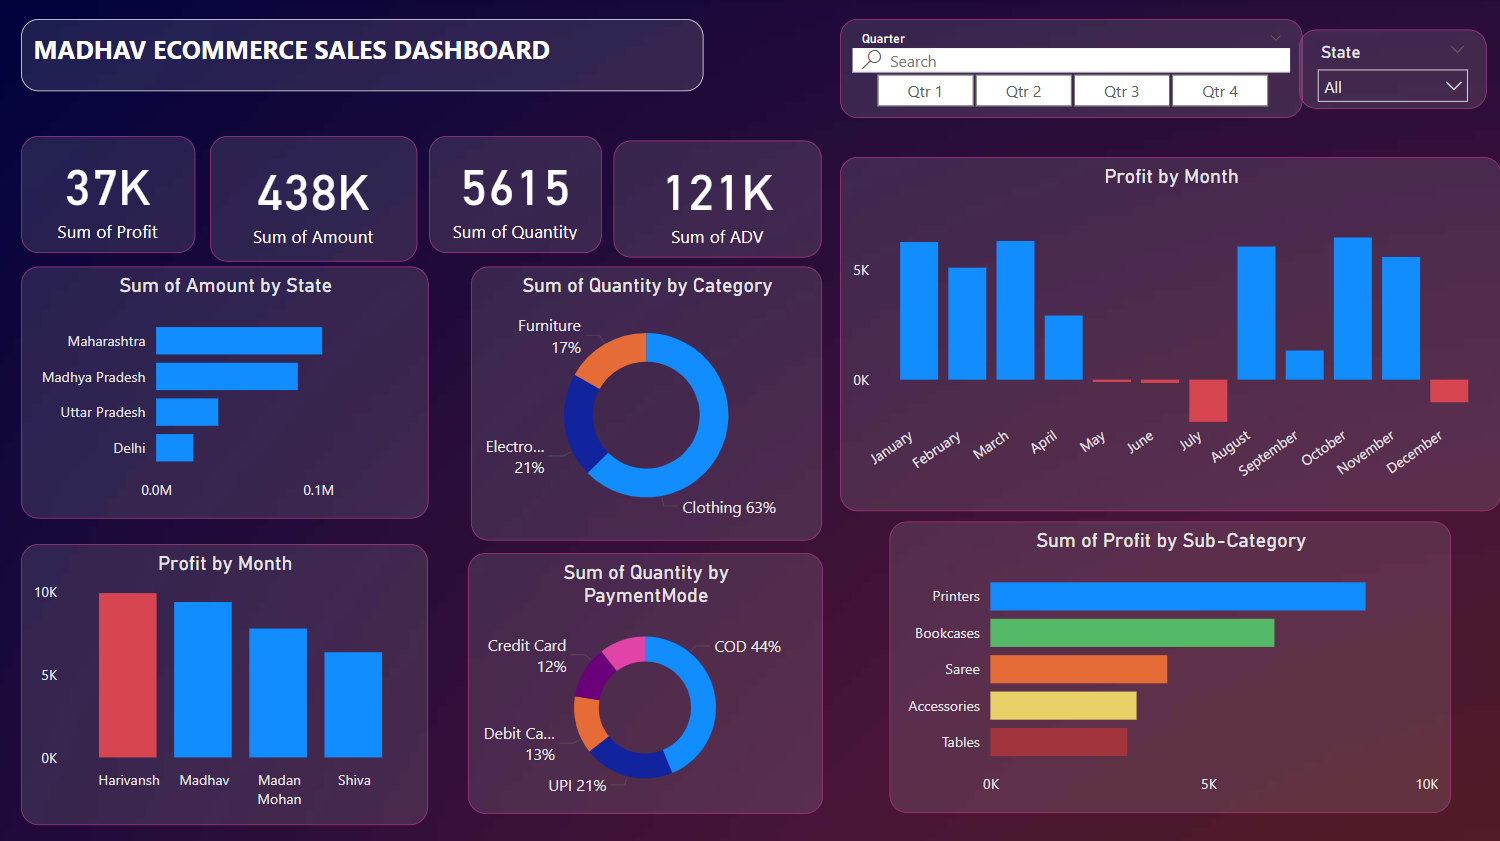

This screenshot's page, from the dashboard's own definition file:
{"tool":"powerbi","page":{"name":"Page 1","canvas":[1280,720],"ordinal":0},"visuals":[{"type":"textbox","box":[22.9,18.3,579.4,61.1],"z":0},{"type":"columnChart","title":"Profit by Month","fields":{"Y":["Details.Profit"],"Category":["Orders.Order Date.Variation.Date Hierarchy.Month"]},"box":[718.1,135,561.5,300.5],"z":1000},{"type":"barChart","fields":{"Category":["Details.Sub-Category"],"Y":["Details.Profit"]},"box":[759.7,444.8,476.9,247.6],"z":2000},{"type":"donutChart","fields":{"Category":["Details.Category"],"Y":["Details.Quantity"]},"box":[405.1,227.8,298.1,232.4],"z":3000},{"type":"donutChart","fields":{"Category":["Details.PaymentMode","Details.Category"],"Y":["Details.Quantity"]},"box":[402,470.8,301.1,221.7],"z":4000},{"type":"card","fields":{"Values":["Details.Amount"]},"box":[183.3,117.1,175.7,107],"z":5000},{"type":"card","fields":{"Values":["Details.Quantity"]},"box":[369.2,117.1,146.4,99.3],"z":6000},{"type":"card","fields":{"Values":["Details.ADV"]},"box":[525.8,121,177,99.3],"z":7000},{"type":"card","fields":{"Values":["Details.Profit"]},"box":[22.9,117.1,147.7,99.3],"z":8000},{"type":"barChart","fields":{"Category":["Orders.State"],"Y":["Details.Amount"]},"box":[22.9,227.9,346.3,213.9],"z":9000},{"type":"columnChart","title":"Profit by Month","fields":{"Category":["Orders.CustomerName"],"Y":["Details.Amount"]},"box":[22.9,463.2,345.5,238.5],"z":10000},{"type":"slicer","fields":{"Values":["Orders.Order Date.Variation.Date Hierarchy.Quarter"]},"box":[718.5,18.3,392.9,84.1],"z":11000},{"type":"slicer","fields":{"Values":["Orders.State"]},"box":[1107.7,26.7,159.2,67.5],"z":12000}]}

Visuals, with their boxes in screenshot pixels (x1, y1, x2, y2), scaled from the page's 1280x720 canvas onto the 1500x841 screenshot:
textbox: box(27, 21, 706, 93)
"Profit by Month" columnChart: box(842, 158, 1499, 509)
barChart - Details.Sub-Category x Details.Profit: box(890, 520, 1449, 809)
donutChart - Details.Category x Details.Quantity: box(475, 266, 824, 538)
donutChart - Details.PaymentMode x Details.Category: box(471, 550, 824, 809)
card - Details.Amount: box(215, 137, 421, 262)
card - Details.Quantity: box(433, 137, 604, 253)
card - Details.ADV: box(616, 141, 824, 257)
card - Details.Profit: box(27, 137, 200, 253)
barChart - Orders.State x Details.Amount: box(27, 266, 433, 516)
"Profit by Month" columnChart: box(27, 541, 432, 820)
slicer - Orders.Order Date.Variation.Date Hierarchy.Quarter: box(842, 21, 1302, 120)
slicer - Orders.State: box(1298, 31, 1485, 110)
